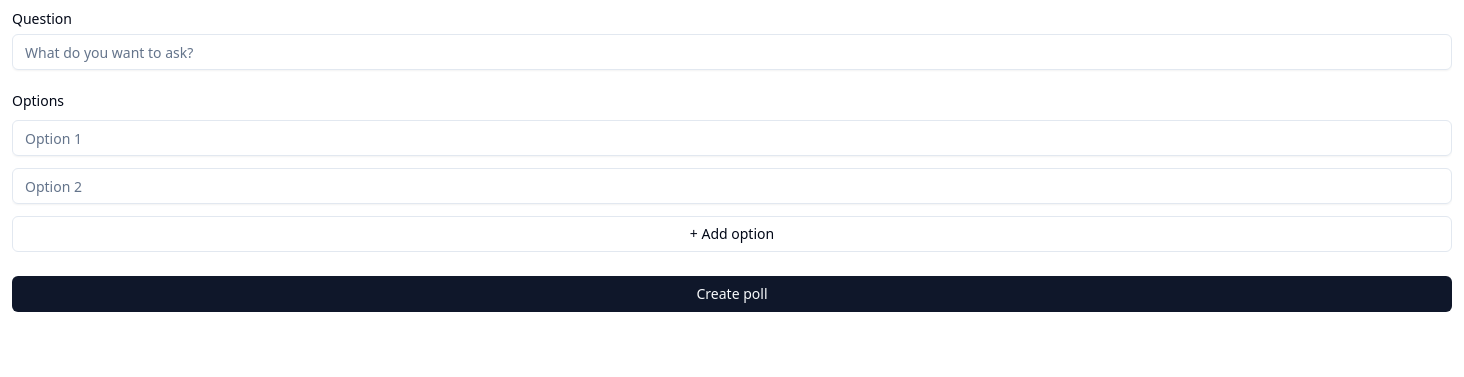
Test: PollForm › adding and removing options › adds an option when Add option is clicked
Click the button "+ Add option". click: click(732, 234)
box: [12,216,1452,252]
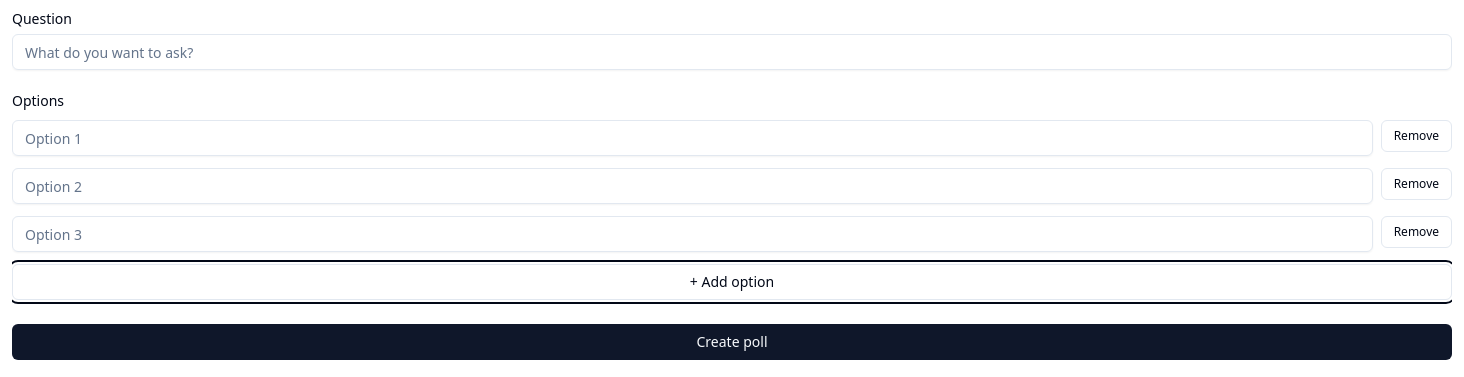
Result: the number of fields with placeholder "Option 1" is 3 at [12,120,1373,156]; [12,168,1373,204]; [12,216,1373,252]
